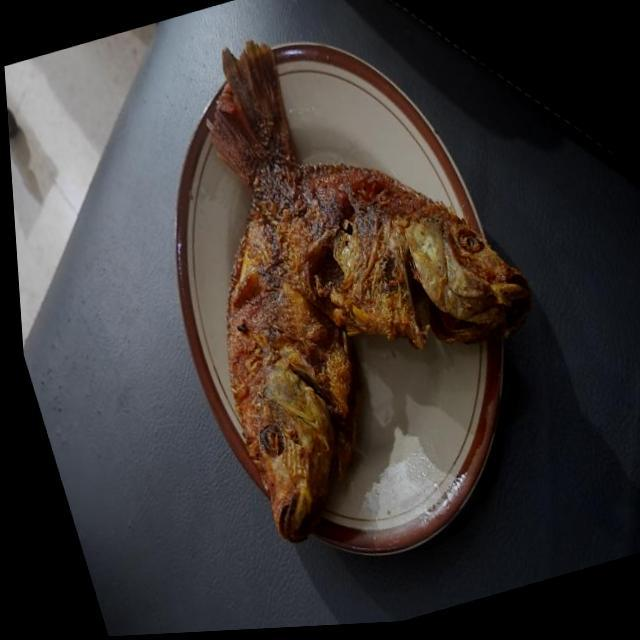ikan_mujair: (211, 98, 530, 347), (222, 38, 356, 543)
